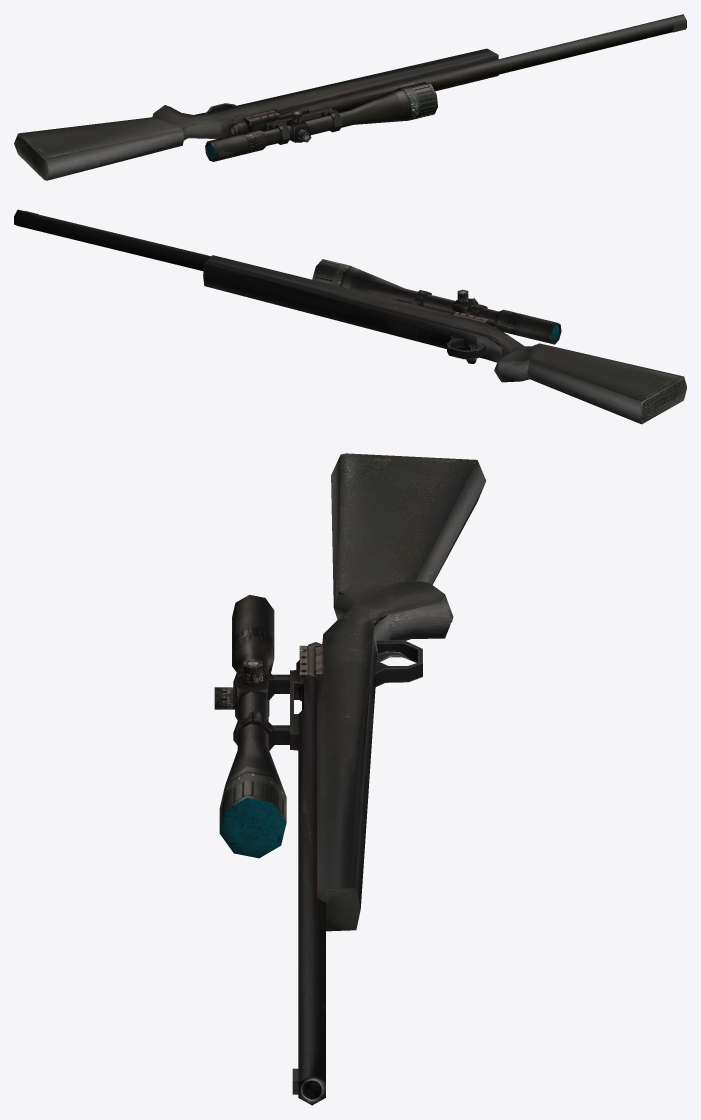
The model's file is weapon_remington700_LOD0.obj.
3 views of the same model, one above another, from view 1: azimuth 30°, elevation 25°; view 2: azimuth 150°, elevation 25°; view 3: azimuth 270°, elevation 25° (orthographic). The views are drawn at different scales.
Visible parts, largest first — view 1: mtl_weapon_remington700; view 2: mtl_weapon_remington700; view 3: mtl_weapon_remington700, mtl_weapon_acog_alpha.
Part boxes in pixels (x1,y1,x2,y2): mtl_weapon_remington700: (14,14,686,180); mtl_weapon_remington700: (14,209,686,424); mtl_weapon_remington700: (214,453,485,1105); mtl_weapon_acog_alpha: (219,797,286,858).
Size of the model in its own units: 109 by 6.83 by 20.29.
